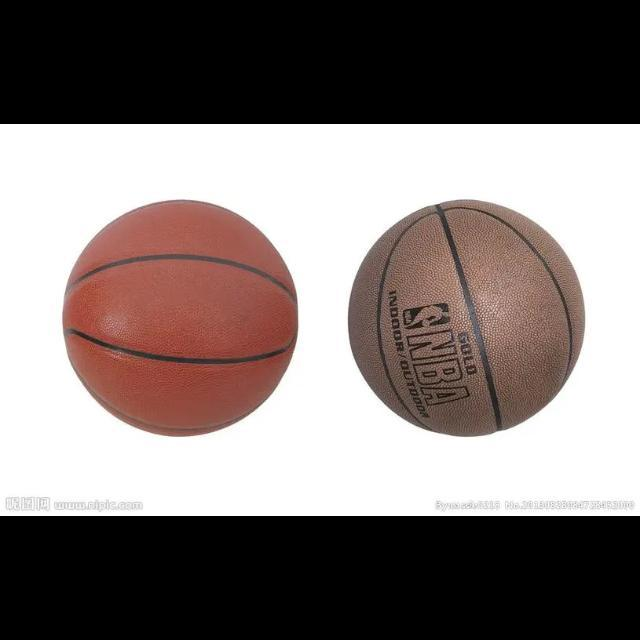basketball: (350, 200, 584, 438), (63, 201, 297, 437)
